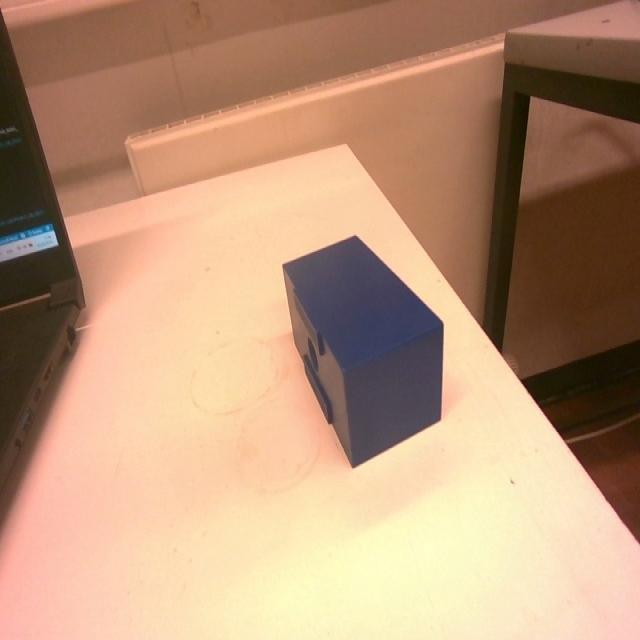Blue Cuboid: (279, 231, 445, 468)
